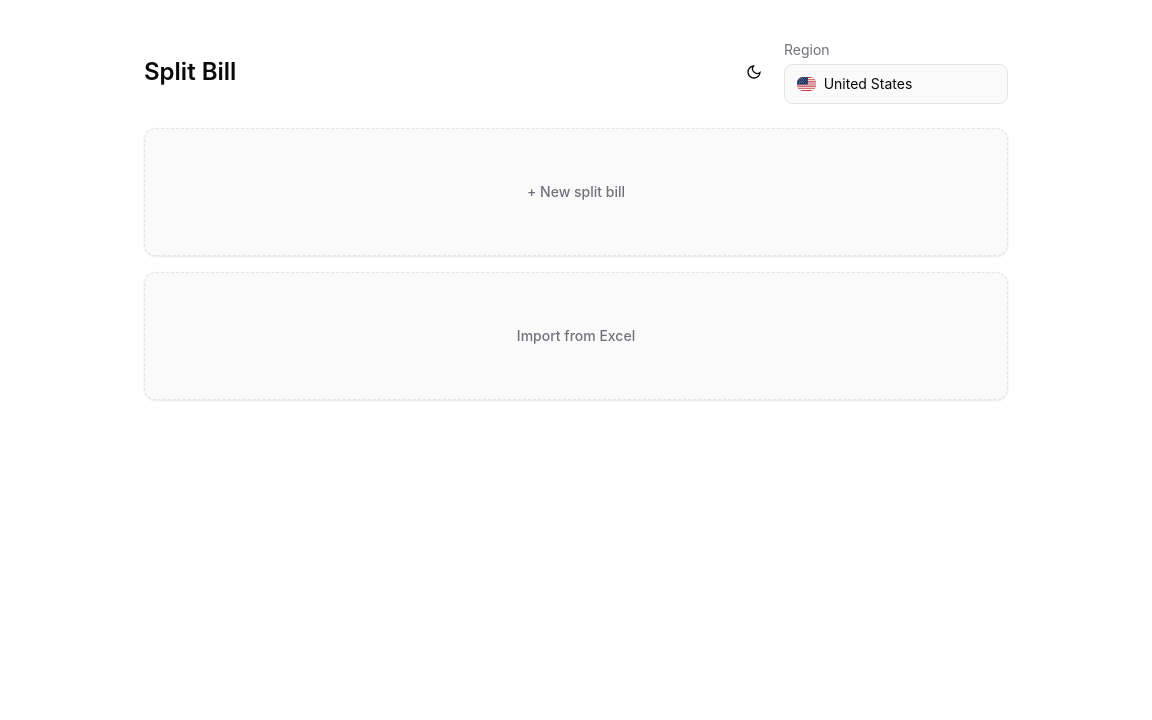
it: App › switches to the wizard when a new entry is created
Click the button "+ New split bill" at coordinates (576, 192), box [144, 128, 1008, 256]
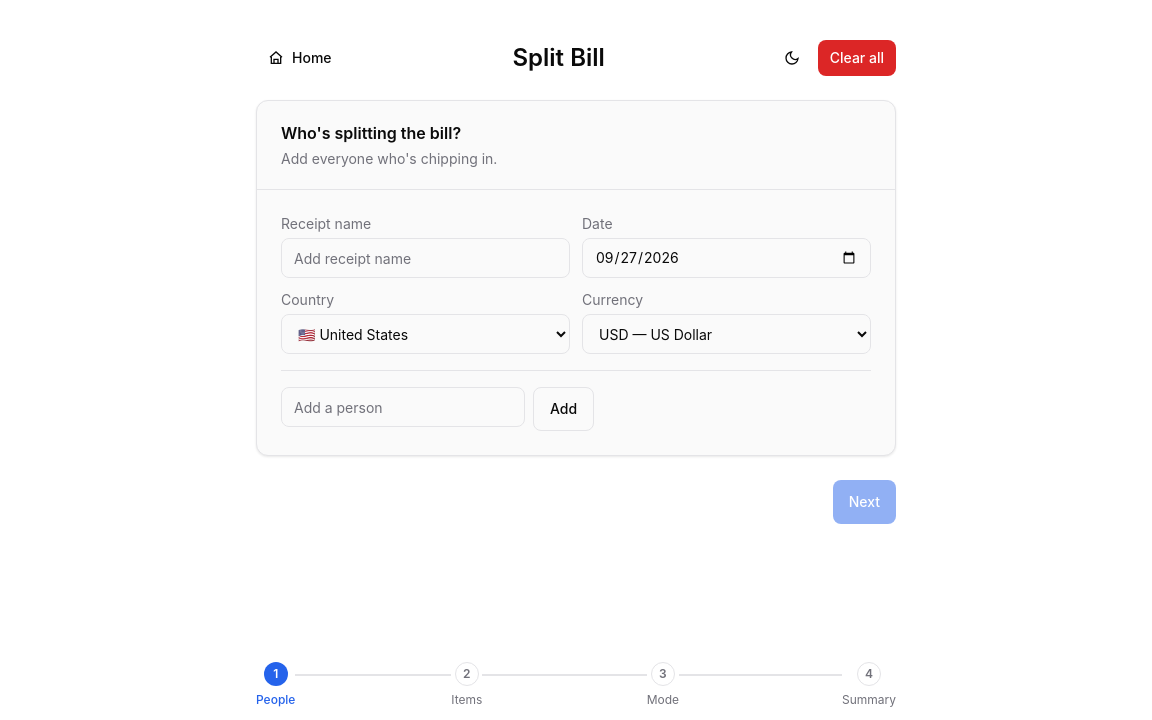
Expected: the heading "Who's splitting the bill?" is shown, [281, 123, 461, 143]
